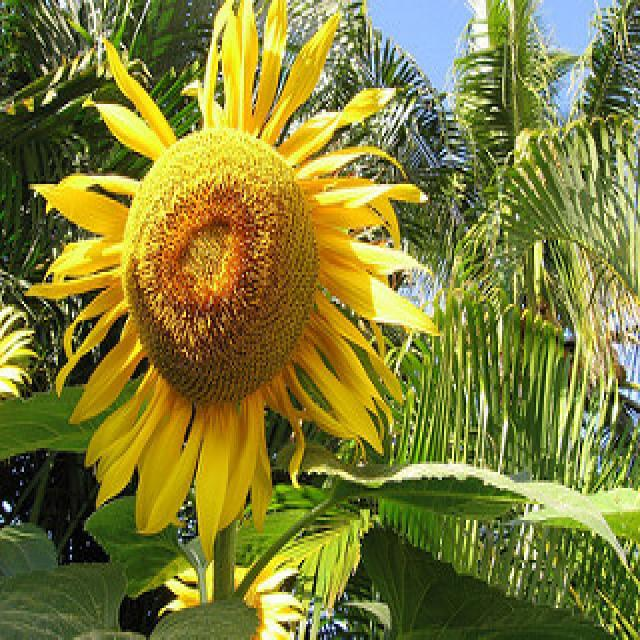sunflower: (25, 1, 434, 562), (162, 558, 309, 640)
